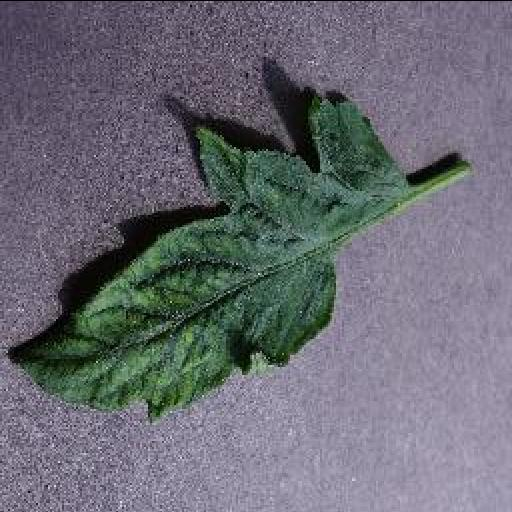Mosaic Virus: (20, 88, 410, 422)
